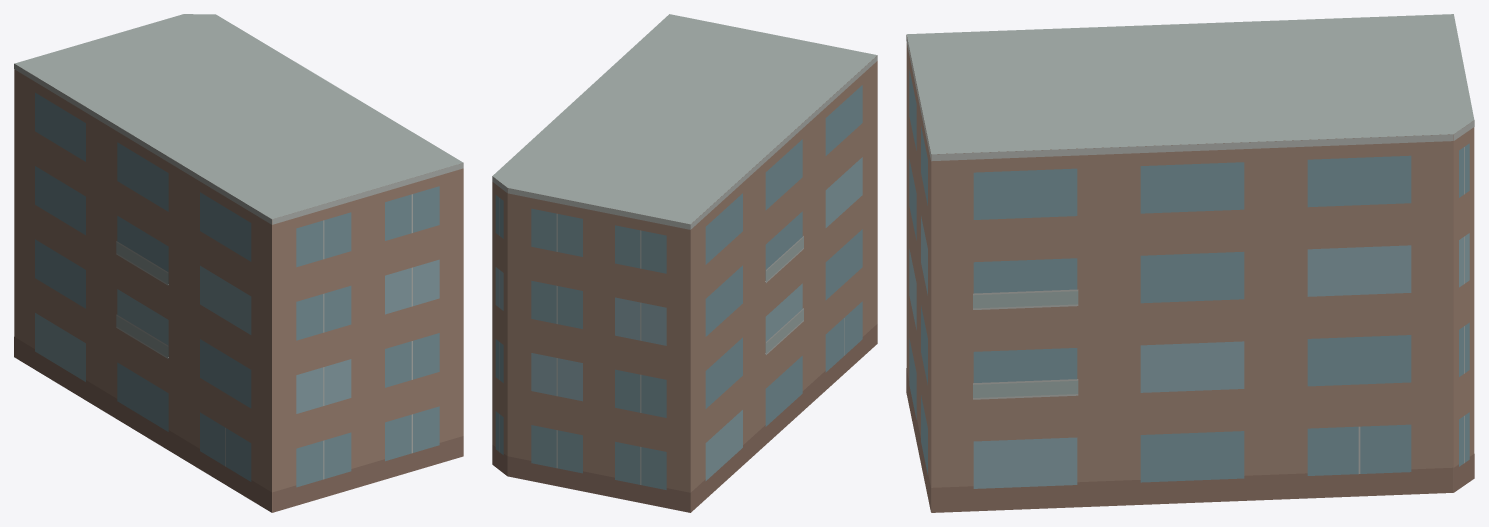
The model's file is survey-upis-32616127.glb.
3 views of the same model, side by side, from view 1: azimuth 30°, elevation 25°; view 2: azimuth 150°, elevation 25°; view 3: azimuth 270°, elevation 25° (orthographic). The views are drawn at different scales.
Visible parts, largest first — view 1: survey-upis-32616127.tmp; view 2: survey-upis-32616127.tmp; view 3: survey-upis-32616127.tmp.
Boxes of the visible parts, box(x1,y1,x2,y2) form: survey-upis-32616127.tmp: box(14, 14, 463, 512); survey-upis-32616127.tmp: box(492, 14, 877, 512); survey-upis-32616127.tmp: box(906, 14, 1474, 512).
Bounding box in the file's own units: 10.76 × 12.8 × 18.39.
